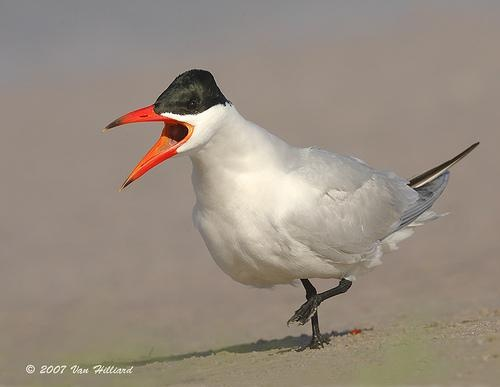bird: (101, 66, 476, 319)
